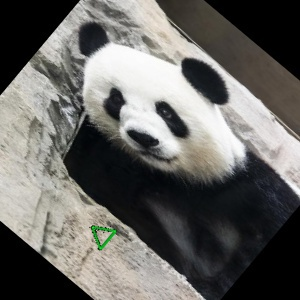triangle: (90, 224, 117, 251)
